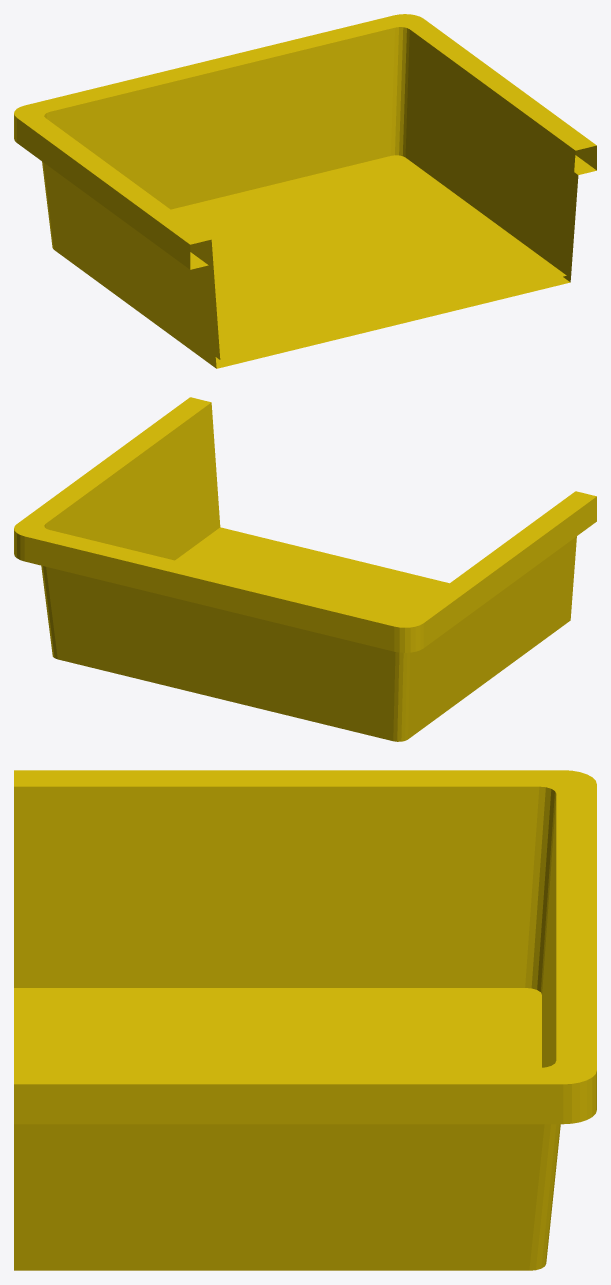
Rendered from container_part0.dae.
3 views of the same model, one above another, from view 1: azimuth 30°, elevation 25°; view 2: azimuth 150°, elevation 25°; view 3: azimuth 270°, elevation 25° (orthographic). The views are drawn at different scales.
Visible parts, largest first — view 1: Cube; view 2: Cube; view 3: Cube.
Part boxes in pixels (<box>): Cube: <box>14,14,596,368</box>; Cube: <box>14,397,596,741</box>; Cube: <box>14,770,596,1270</box>.
Bounding box in the file's own units: 0.44 × 0.345 × 0.135.
